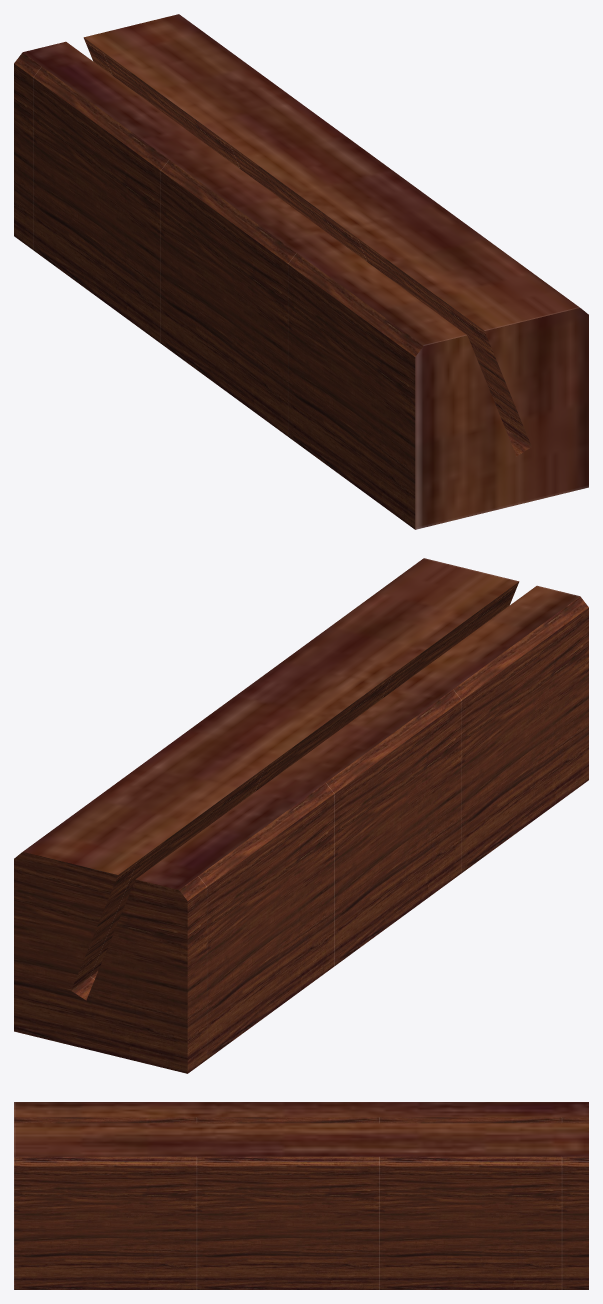
File: bases-de-foto-saman.glb
The picture shows the model from 3 angles, top to bottom: view 1: azimuth 30°, elevation 25°; view 2: azimuth 150°, elevation 25°; view 3: azimuth 270°, elevation 25°; orthographic projection. The views are drawn at different scales.
Size of the model in its own units: 0.02 by 0.02 by 0.08.
2 materials, 2 textured.
